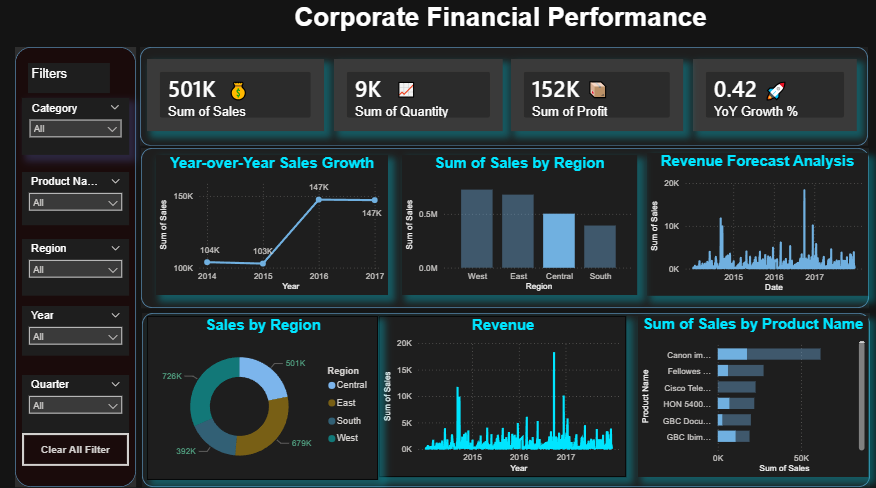

The dashboard page shown, as its layout file describes it:
{"tool":"powerbi","page":{"name":"KPI cards for profitability","canvas":[1280,720],"ordinal":4},"visuals":[{"type":"cardVisual","fields":{"Data":["Sum(Sheet3.Sales)"]},"box":[205,100,355,280],"z":0},{"type":"cardVisual","fields":{"Data":["Sheet3.YoY Growth %"]},"box":[615,404.9,340,268],"z":1000},{"type":"cardVisual","fields":{"Data":["Sum(Sheet3.Quantity)"]},"box":[615,100.9,340,278],"z":2000},{"type":"cardVisual","fields":{"Data":["Sum(Sheet3.Profit)"]},"box":[205,405,355,267.5],"z":3000},{"type":"textbox","box":[360,21.4,510,52.9],"z":4000},{"type":"textbox","box":[287.1,188.6,122.9,85.7],"z":5000},{"type":"textbox","box":[712.9,207.1,60,47.1],"z":6000},{"type":"textbox","box":[360,497.1,137.1,81.4],"z":7000},{"type":"textbox","box":[712.9,497.1,75.7,64.3],"z":8000}]}

Visuals, with their boxes in screenshot pixels (x1, y1, x2, y2), scaled from the page's 1280x720 canvas onto the 876x488 screenshot:
cardVisual - Sum(Sheet3.Sales): [140,68,383,258]
cardVisual - Sheet3.YoY Growth %: [421,274,654,456]
cardVisual - Sum(Sheet3.Quantity): [421,68,654,257]
cardVisual - Sum(Sheet3.Profit): [140,274,383,456]
textbox: [246,15,595,50]
textbox: [196,128,281,186]
textbox: [488,140,529,172]
textbox: [246,337,340,392]
textbox: [488,337,540,381]
